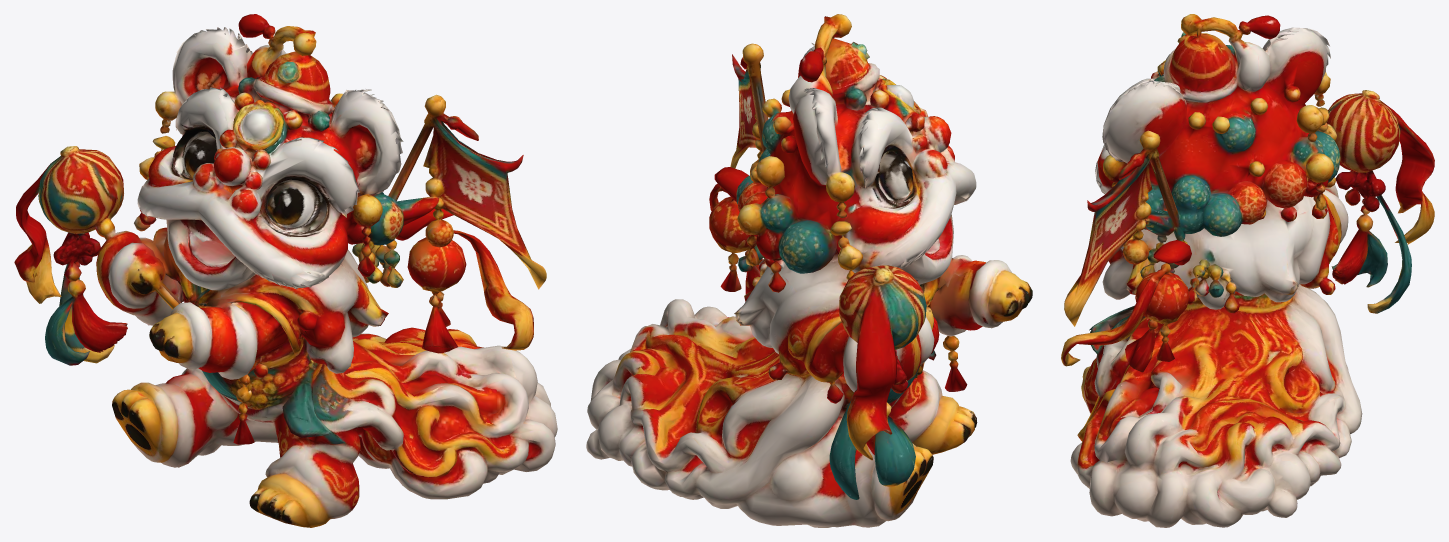
File: ntFes.glb
The picture shows the model from 3 angles, left to right: view 1: azimuth 30°, elevation 25°; view 2: azimuth 150°, elevation 25°; view 3: azimuth 270°, elevation 25°; orthographic projection. The views are drawn at different scales.
Visible parts, largest first — view 1: node_0; view 2: node_0; view 3: node_0.
Boxes of the visible parts, bbox=[...] form: node_0: bbox=[14, 14, 557, 527]; node_0: bbox=[586, 14, 1032, 527]; node_0: bbox=[1061, 14, 1434, 527].
Bounding box in the file's own units: 0.8252 × 0.8822 × 0.7082.
Materials: 1 (1 with a texture image).
